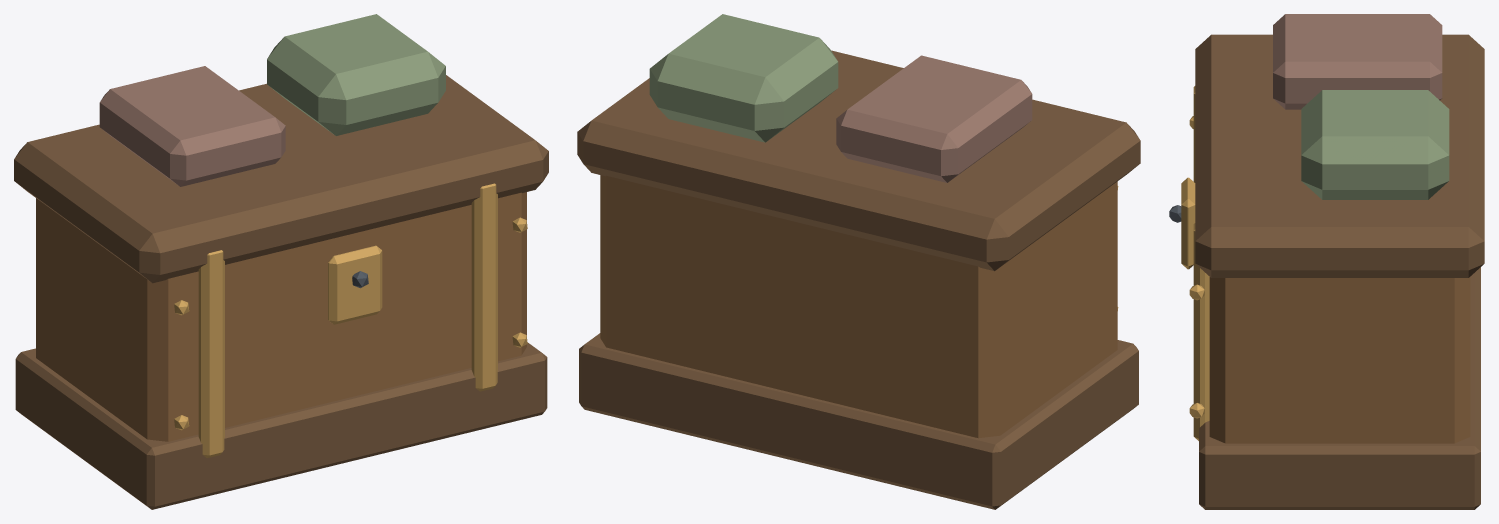
Rendered from storage.glb.
3 renders of one model, left to right at view 1: azimuth 30°, elevation 25°; view 2: azimuth 150°, elevation 25°; view 3: azimuth 270°, elevation 25°, orthographic. The views are drawn at different scales.
Visible parts, largest first — view 1: Structure_HV_oak, Structure_HV_door, Structure_HV_pack, Structure_HV_blanket, Structure_HV_brass; view 2: Structure_HV_oak, Structure_HV_door, Structure_HV_pack, Structure_HV_blanket; view 3: Structure_HV_oak, Structure_HV_door, Structure_HV_pack, Structure_HV_blanket, Structure_HV_brass.
Part boxes in pixels (x1,y1,x2,y2): Structure_HV_oak: [14, 75, 548, 509]; Structure_HV_door: [36, 192, 526, 441]; Structure_HV_pack: [267, 14, 445, 135]; Structure_HV_blanket: [99, 66, 285, 186]; Structure_HV_brass: [174, 183, 527, 457]; Structure_HV_oak: [577, 50, 1140, 509]; Structure_HV_door: [600, 175, 1117, 438]; Structure_HV_pack: [649, 14, 838, 142]; Structure_HV_blanket: [836, 55, 1032, 182]; Structure_HV_oak: [1195, 34, 1484, 509]; Structure_HV_door: [1209, 277, 1470, 443]; Structure_HV_pack: [1301, 90, 1449, 199]; Structure_HV_blanket: [1273, 14, 1442, 109]; Structure_HV_brass: [1181, 86, 1209, 440].
Size of the model in its own units: 1.38 by 1.08 by 0.8938.
